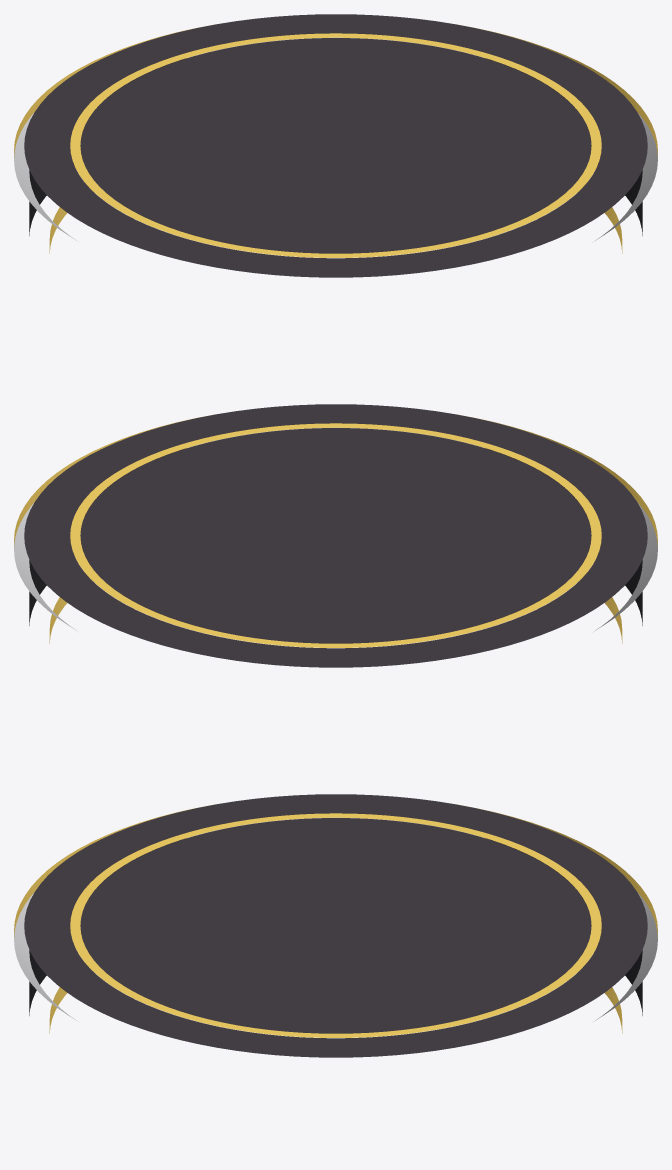
The model's file is podium2_gold.glb.
The picture shows the model from 3 angles, top to bottom: view 1: azimuth 30°, elevation 25°; view 2: azimuth 150°, elevation 25°; view 3: azimuth 270°, elevation 25°; orthographic projection.
Visible parts, largest first — view 1: p8, p6, p7, p3, p4, p2; view 2: p8, p6, p7, p3, p4, p2; view 3: p8, p6, p7, p3, p4, p2.
Part boxes in pixels (x1=…): p8: x1=80, y1=38, x2=591, y2=253; p6: x1=24, y1=14, x2=647, y2=277; p7: x1=70, y1=33, x2=601, y2=257; p3: x1=14, y1=37, x2=657, y2=240; p4: x1=14, y1=24, x2=657, y2=157; p2: x1=29, y1=58, x2=642, y2=235; p8: x1=80, y1=428, x2=591, y2=643; p6: x1=24, y1=404, x2=647, y2=667; p7: x1=70, y1=423, x2=601, y2=647; p3: x1=14, y1=427, x2=657, y2=630; p4: x1=14, y1=414, x2=657, y2=547; p2: x1=29, y1=448, x2=642, y2=625; p8: x1=80, y1=818, x2=591, y2=1033; p6: x1=24, y1=794, x2=647, y2=1057; p7: x1=70, y1=813, x2=601, y2=1037; p3: x1=14, y1=817, x2=657, y2=1020; p4: x1=14, y1=804, x2=657, y2=937; p2: x1=29, y1=838, x2=642, y2=1015.
Size of the model in its own units: 2.52 by 0.471 by 2.52.
